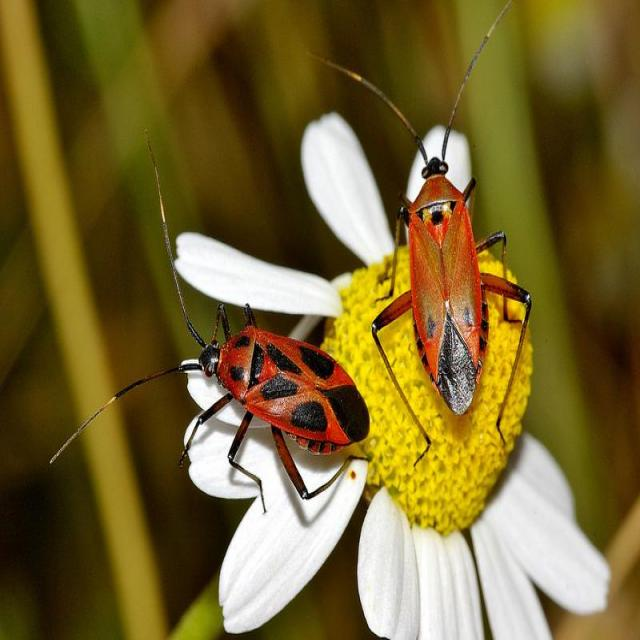Miridae-Adult-: (54, 122, 376, 525), (322, 24, 545, 463)
